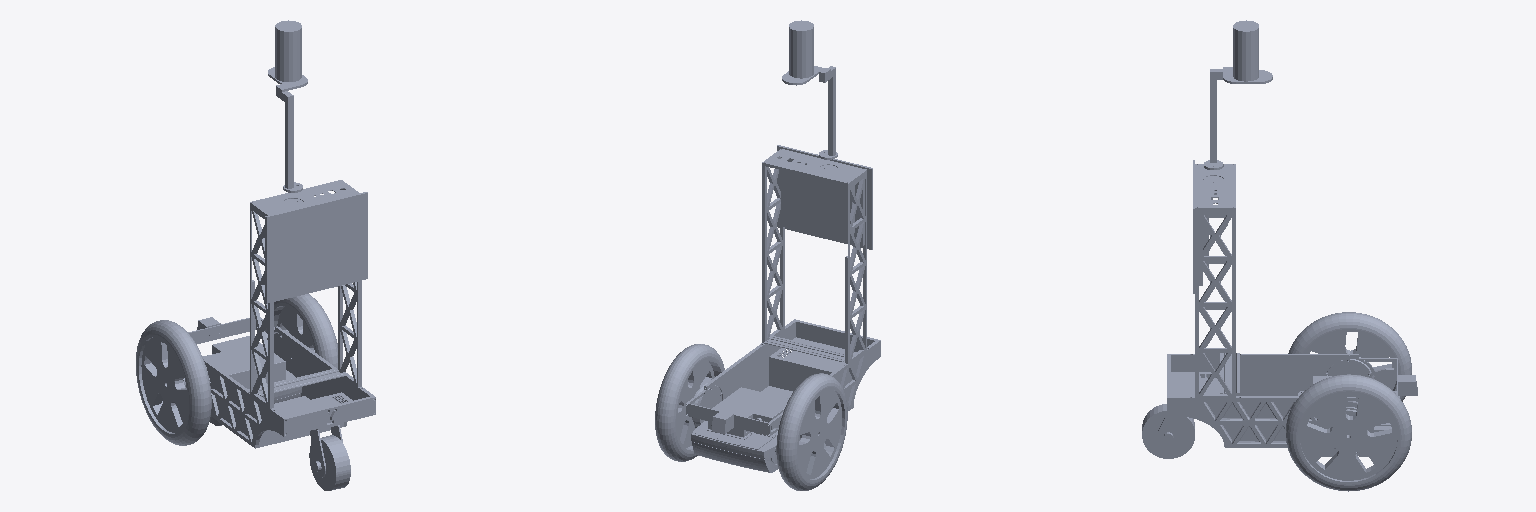
robot.urdf — RMP 200 Light:
<robot
  name="RMP 200 Light">
  <link
    name="base_link">
    <inertial>
      <origin
        xyz="-0.125023452490073 -0.282898566213627 -0.00711344044905081"
        rpy="0 0 90" />
      <mass
        value="62.8997439467478" />
      <inertia
        ixx="13.1645664908108"
        ixy="-0.0622681300792579"
        ixz="-0.0185631691591961"
        iyy="6.57406072104929"
        iyz="3.31968350860984"
        izz="10.9213782339762" />
    </inertial>
    <visual>
      <origin
        xyz="0 0 0"
        rpy="0 0 0" />
      <geometry>
        <mesh
          filename="package://URDF/meshes/base_link.STL" />
      </geometry>
      <material
        name="">
        <color
          rgba="0.666666666666667 0.694117647058824 0.764705882352941 1" />
      </material>
    </visual>
    <collision>
      <origin
        xyz="0 0 0"
        rpy="0 0 0" />
      <geometry>
        <mesh
          filename="package://URDFmeshes/base_link.STL" />
      </geometry>
    </collision>
  </link>
</robot>

--- What the picture shows (computed from the rendered views, not written in the file) ---
Views: 3 orthographic renders of the robot side by side, from view 1: azimuth 30°, elevation 25°; view 2: azimuth 150°, elevation 25°; view 3: azimuth 270°, elevation 25°.
Model RMP 200 Light with 1 links and 0 joints (none), rooted at base_link, posed all joints at 0.
Visible links, largest first — view 1: base_link; view 2: base_link; view 3: base_link.
Link boxes in pixels (x1=…): base_link: x1=136, y1=20, x2=375, y2=490; base_link: x1=655, y1=20, x2=880, y2=490; base_link: x1=1142, y1=20, x2=1417, y2=491.
Bounding box of the posed robot: 0.6519 × 1.05 × 1.82 m (x, y, z).
Meshes: 1 distinct files referenced, 1 mesh visuals loaded (1 binary STL).